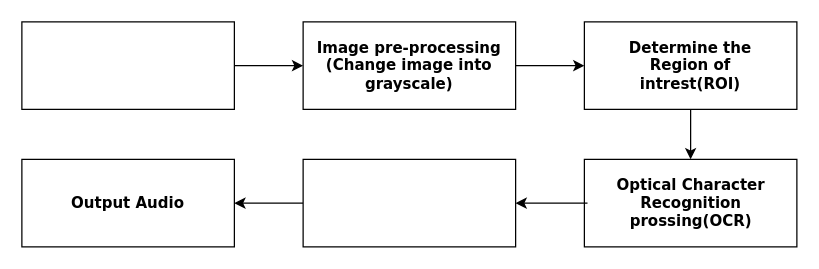
Some shapes in this 819 by 269 pixel diagram are drawn without their labels. Here are the shapes that lost their labels. From the top down, the centre of each, then its label:
At point 127,65: "Take a picture using the pi camera.".
At point 409,202: "Image to Audio Converter (TTS)".
